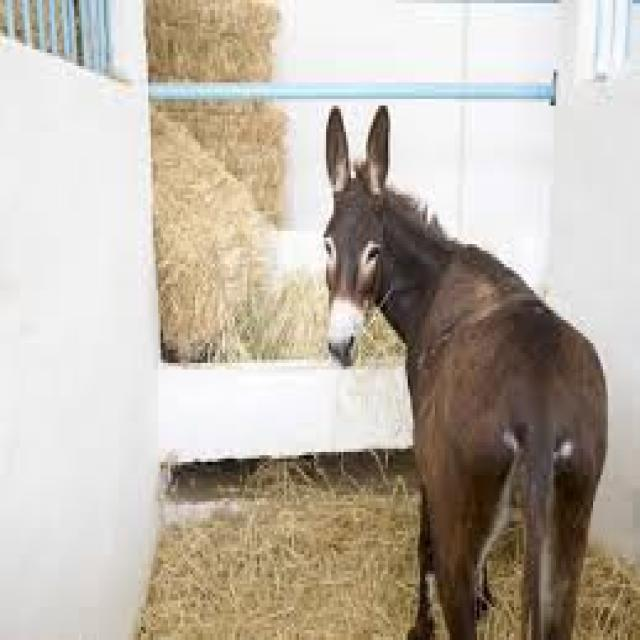Donkey: (304, 89, 618, 640)
